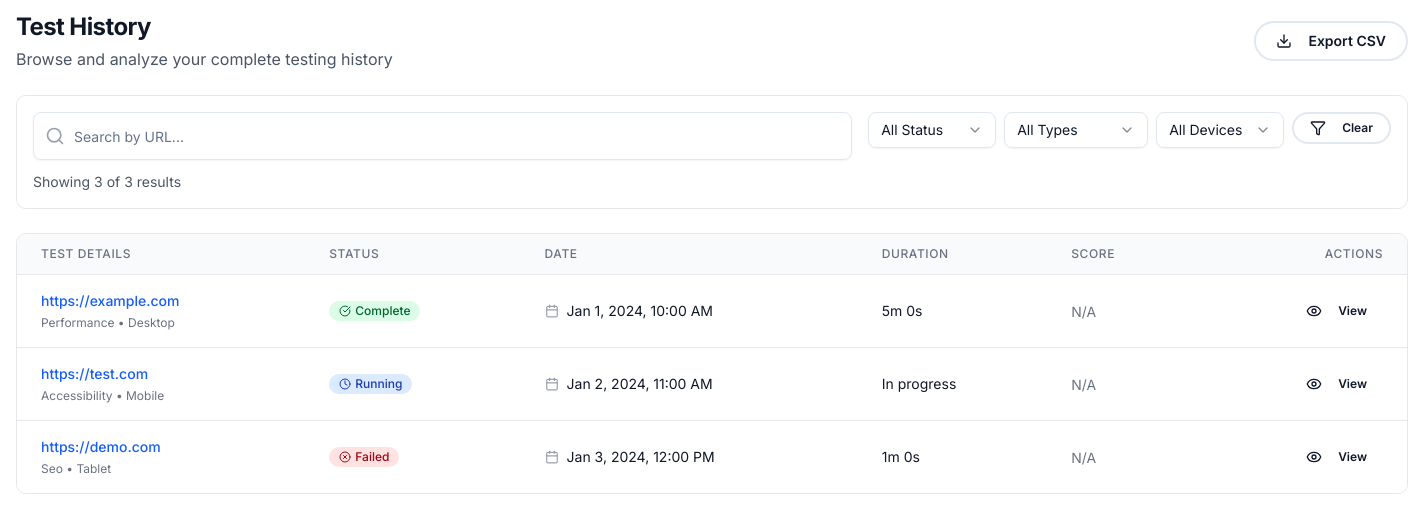
TestHistoryPage › should filter by search query
Type "example" into the field with placeholder "Search by URL...". click: [443, 136]
box: x1=33 y1=112 x2=852 y2=160
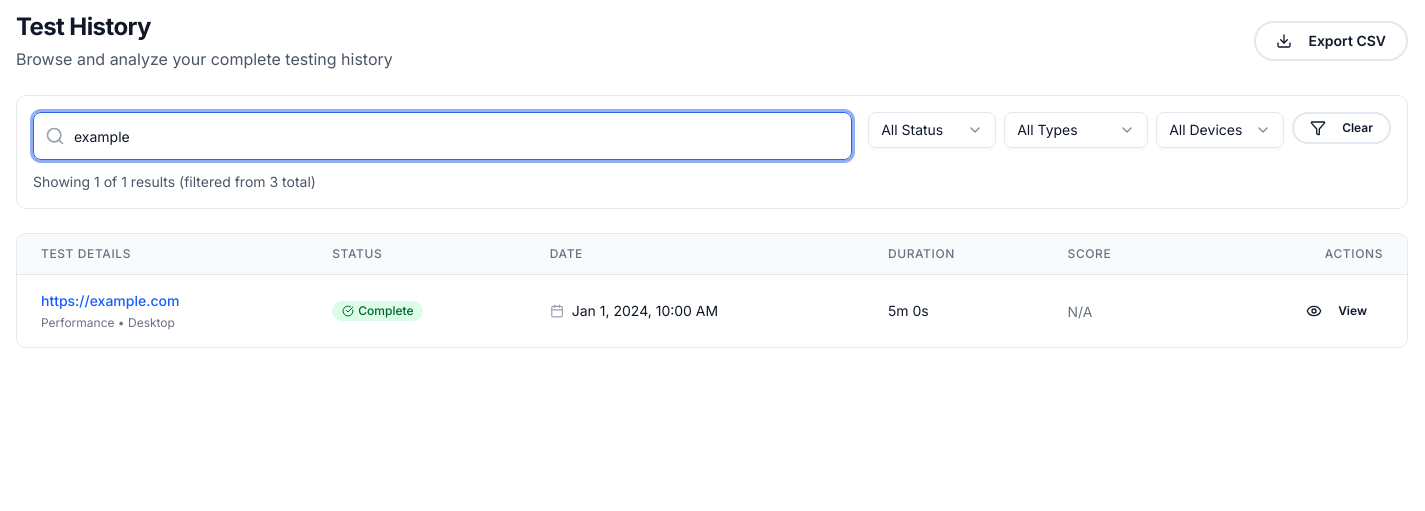
Expected: the link "https://example.com" is shown, x1=41 y1=292 x2=179 y2=309
Expected: the link "https://test.com" is gone
Expected: the link "https://demo.com" is gone
